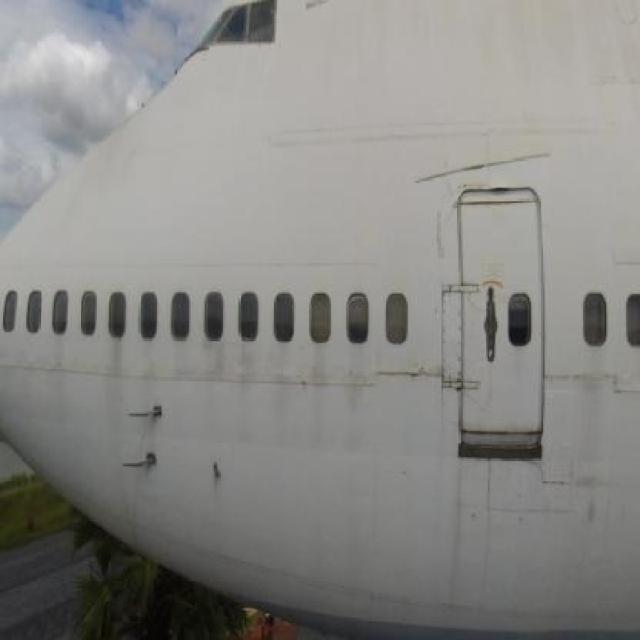Missing-Rivet: (431, 275, 463, 399)
Scartch: (404, 132, 561, 188), (371, 355, 432, 397), (428, 205, 452, 261)
